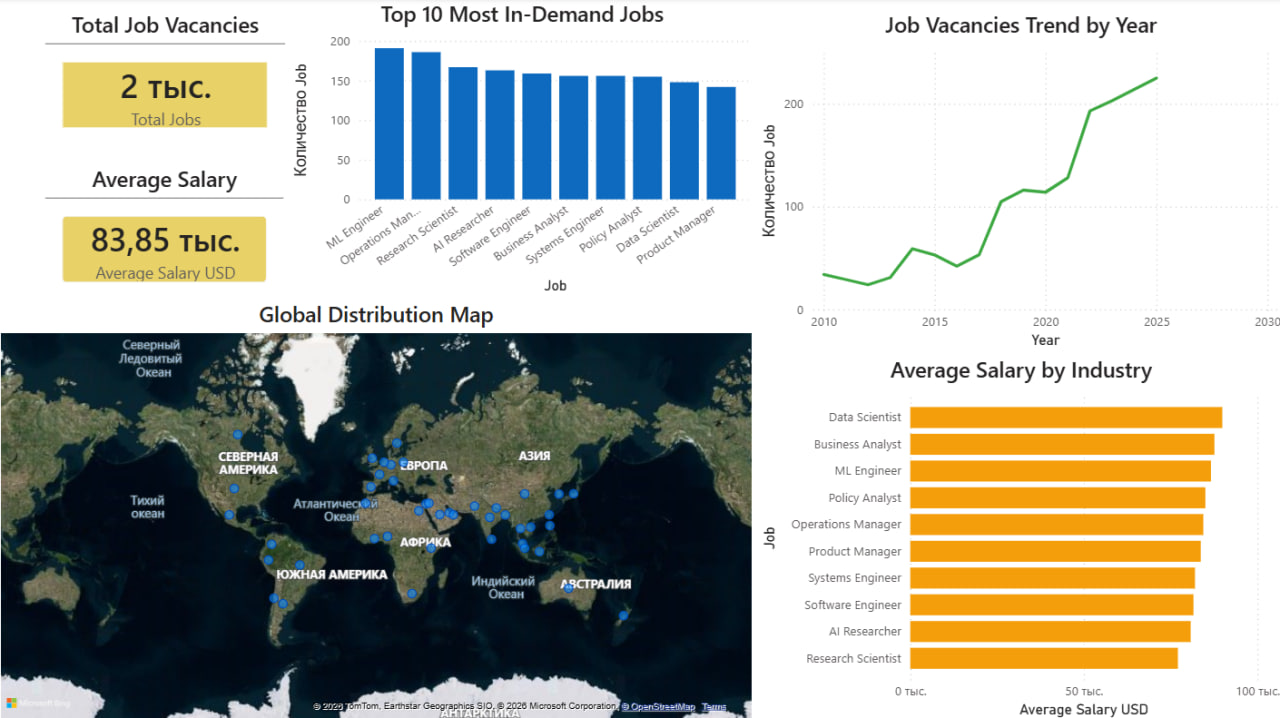

This screenshot's page, from the dashboard's own definition file:
{"tool":"powerbi","page":{"name":"Итоговый вариант ","canvas":[1280,720],"ordinal":0},"visuals":[{"type":"lineChart","title":"Job Vacancies Trend by Year","fields":{"Category":["Sheet1.Year"],"Y":["CountNonNull(Sheet1.Job)"]},"box":[754.7,11.6,525.6,341.9],"z":0},{"type":"columnChart","title":"Top 10 Most In-Demand Jobs","fields":{"Category":["Sheet1.Job"],"Y":["CountNonNull(Sheet1.Job)"]},"box":[289.5,0,465.1,298.8],"z":1000},{"type":"cardVisual","title":"Total Job Vacancies","fields":{"Data":["Sheet1.Total Jobs"]},"box":[48.6,11.4,238.6,134.3],"z":3000},{"type":"cardVisual","title":"Average Salary","fields":{"Data":["Sheet1.Average Salary"]},"box":[48.6,164.3,237.1,134.3],"z":4000},{"type":"map","title":"Global Distribution Map","fields":{"Category":["Sheet1.Country"],"Y":["Sheet1.Countries"]},"box":[0,298.8,754.7,420.9],"z":7000},{"type":"barChart","title":"Average Salary by Industry","fields":{"Category":["Sheet1.Job"],"Y":["Sheet1.Average Salary"]},"box":[754.7,353.5,525.6,366.3],"z":9000}]}

Visuals, with their boxes in screenshot pixels (x1, y1, x2, y2), scaled from the page's 1280x720 canvas onto the 1280x718 screenshot:
"Job Vacancies Trend by Year" lineChart: locate(755, 12, 1279, 353)
"Top 10 Most In-Demand Jobs" columnChart: locate(290, 0, 755, 298)
"Total Job Vacancies" cardVisual: locate(49, 11, 287, 145)
"Average Salary" cardVisual: locate(49, 164, 286, 298)
"Global Distribution Map" map: locate(0, 298, 755, 717)
"Average Salary by Industry" barChart: locate(755, 353, 1279, 717)
